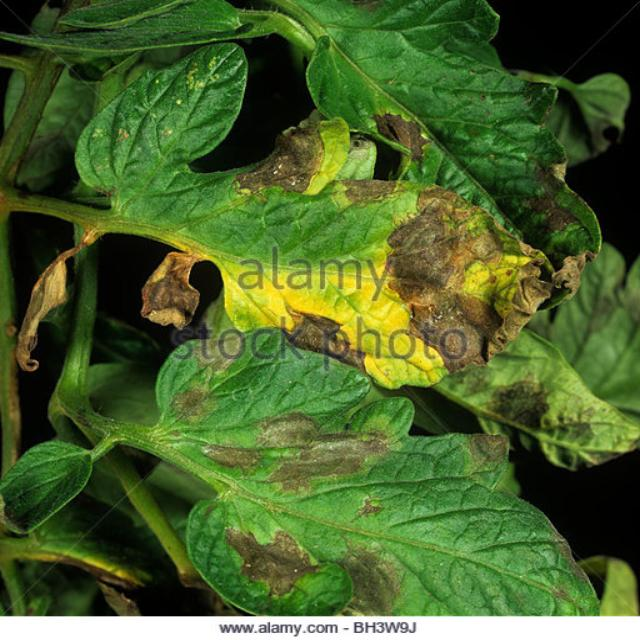Late_blight: (379, 186, 553, 373), (195, 414, 390, 494), (224, 119, 324, 203), (225, 521, 322, 605), (12, 227, 65, 375), (286, 300, 372, 380), (138, 241, 215, 326), (331, 536, 405, 624), (363, 105, 431, 163), (492, 382, 549, 435), (555, 244, 597, 303), (188, 335, 242, 379), (460, 432, 512, 474), (335, 176, 407, 205), (170, 383, 217, 426)
